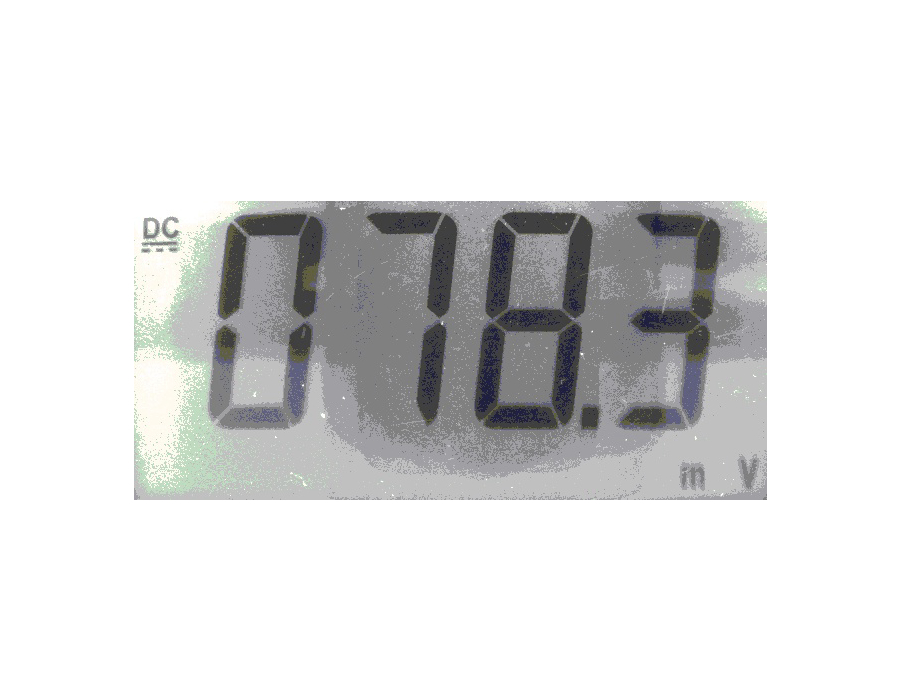.: (576, 400, 606, 438), (580, 403, 599, 432)
1: (207, 211, 327, 432)
3: (615, 212, 722, 433)
7: (364, 210, 461, 430)
8: (471, 209, 594, 434)
